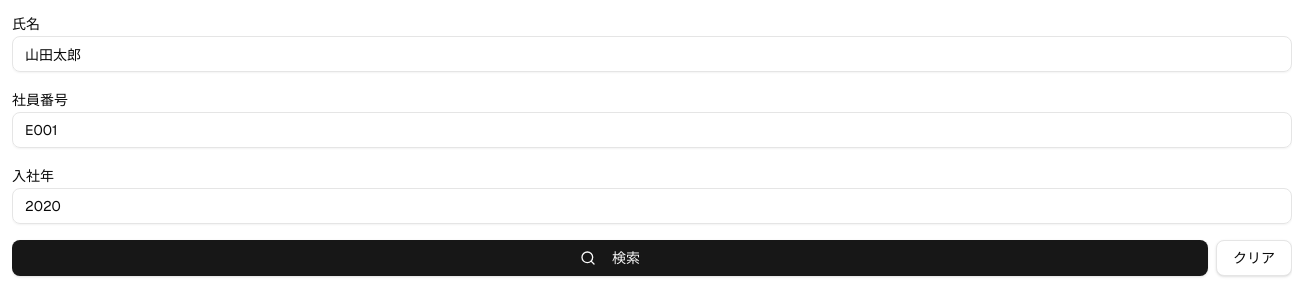
it: SearchForm › クリアボタンでフォームがリセットされる
Click the button "クリア".
click(1254, 258)  # box [1216,240,1292,276]
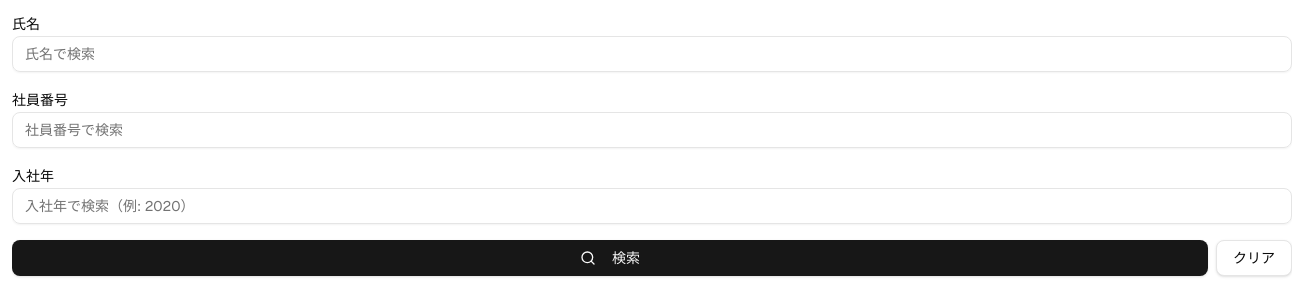
Expected: the field labelled "氏名" is empty, [12,36,1292,72]
Expected: the field labelled "社員番号" is empty, [12,112,1292,148]
Expected: the number field labelled "入社年" is not empty, [12,188,1292,224]
